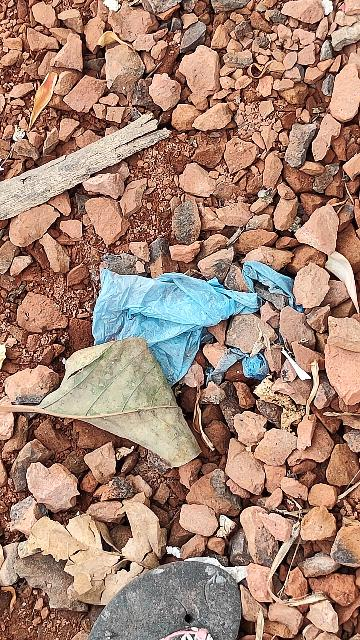polythene: (82, 256, 274, 390)
